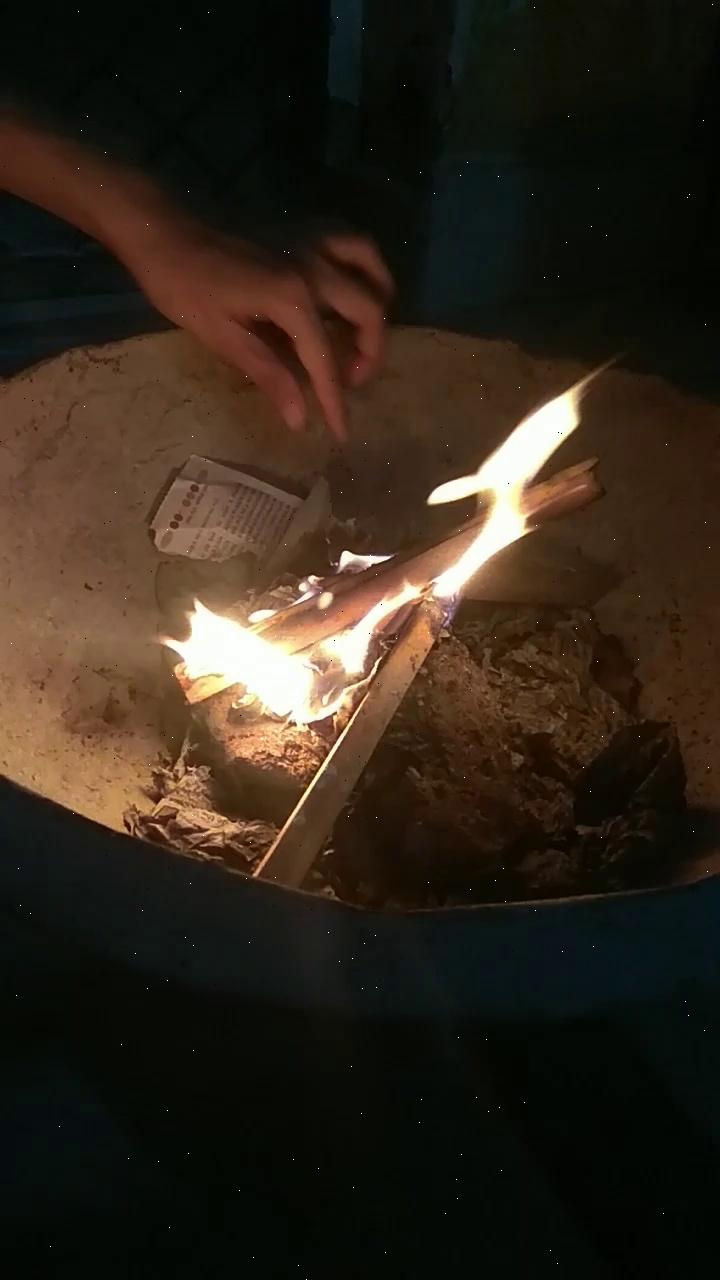fire: (134, 365, 624, 743)
